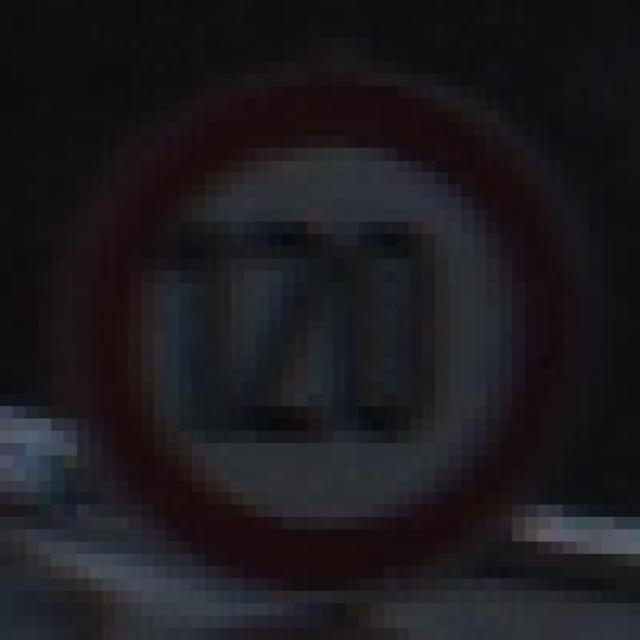forb_speed_over_120: (87, 85, 556, 579)
